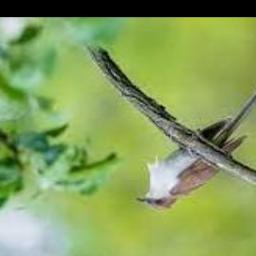Cuckoo: (136, 77, 256, 210)
